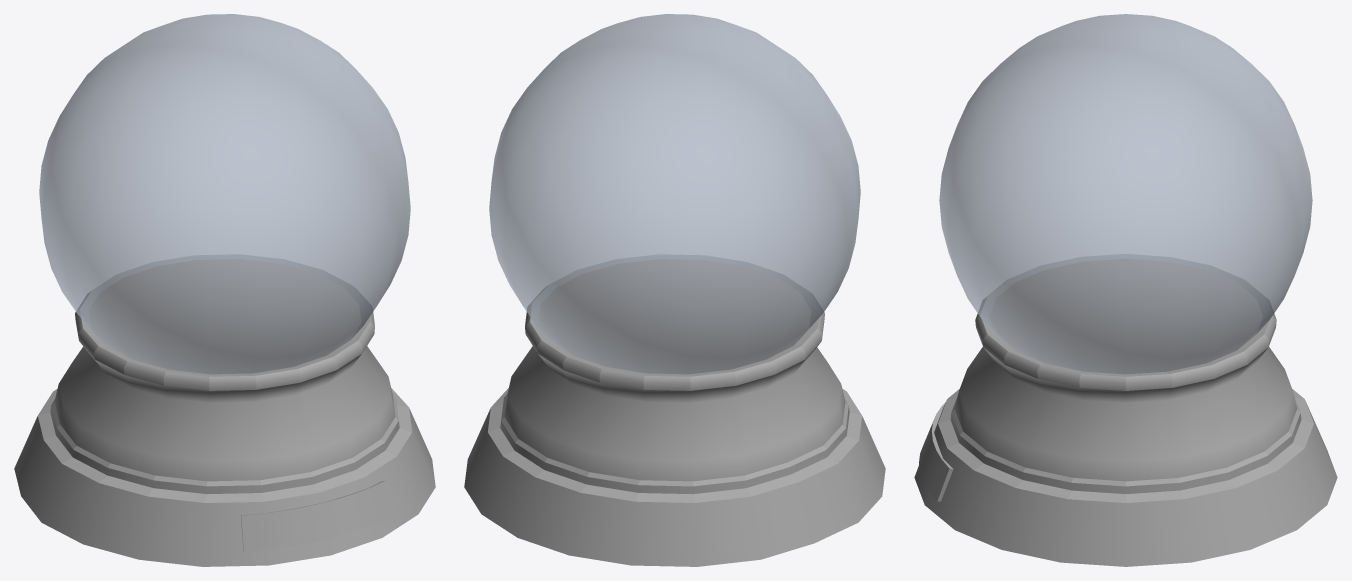
Rendered from snowball.fbx.
3 views of the same model, side by side, from view 1: azimuth 30°, elevation 25°; view 2: azimuth 150°, elevation 25°; view 3: azimuth 270°, elevation 25° (orthographic).
Visible parts, largest first — view 1: pCube2; view 2: pCube2; view 3: pCube2.
Boxes of the visible parts, box(x1,y1,x2,y2) form: pCube2: box(14, 14, 435, 566); pCube2: box(464, 14, 885, 566); pCube2: box(914, 14, 1337, 566).
Bounding box in the file's own units: 22.18 × 25.79 × 22.18.
